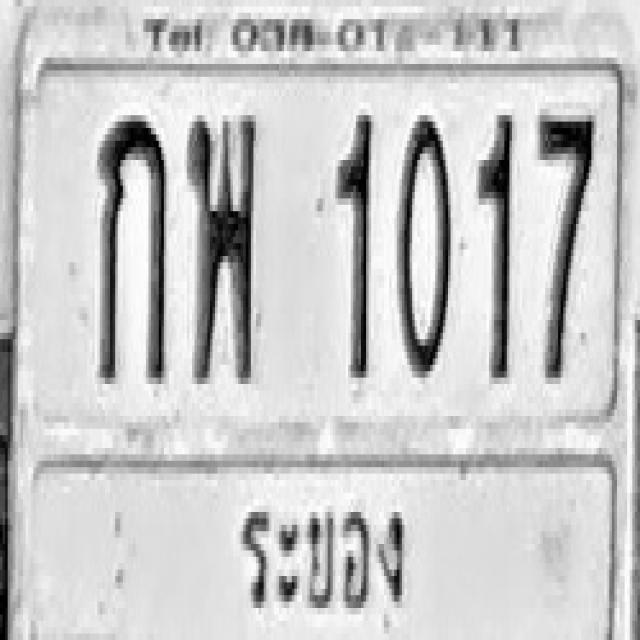0: (396, 109, 451, 378)
1: (478, 109, 514, 378), (337, 109, 372, 378)
10GorGai: (98, 109, 166, 384)
39PhorPan: (187, 109, 256, 384)
7: (536, 109, 596, 378)
Rayong: (223, 472, 431, 640)
